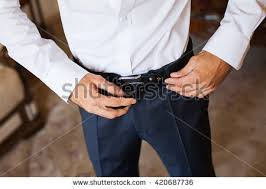F_belt: (62, 36, 210, 90)
